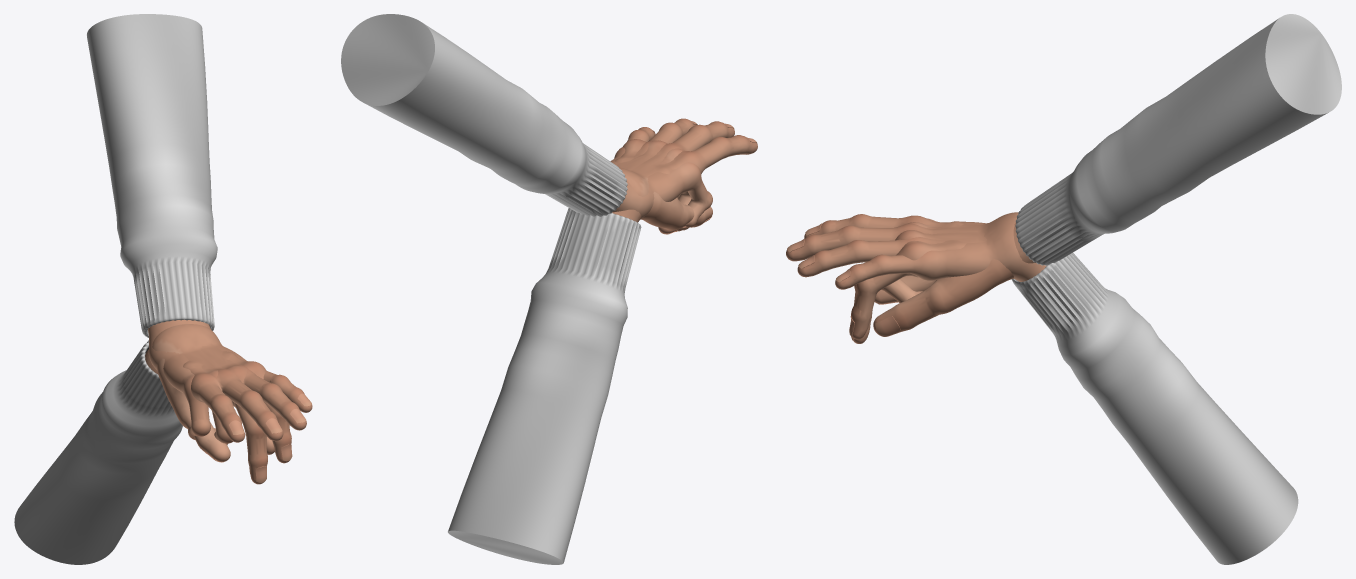
Rendered from Hands.fbx.
3 views of the same model, side by side, from view 1: azimuth 30°, elevation 25°; view 2: azimuth 150°, elevation 25°; view 3: azimuth 270°, elevation 25° (orthographic). The views are drawn at different scales.
Visible parts, largest first — view 1: RightHand_Pencil, LeftHand_Hold; view 2: LeftHand_Hold, RightHand_Pencil; view 3: LeftHand_Hold, RightHand_Pencil.
Boxes of the visible parts, bbox=[...] form: RightHand_Pencil: bbox=[87, 14, 292, 484]; LeftHand_Hold: bbox=[14, 324, 312, 564]; LeftHand_Hold: bbox=[448, 118, 757, 564]; RightHand_Pencil: bbox=[341, 14, 712, 234]; LeftHand_Hold: bbox=[786, 212, 1298, 564]; RightHand_Pencil: bbox=[849, 14, 1341, 343].
Size of the model in its own units: 0.1929 by 0.4864 by 0.4262.
